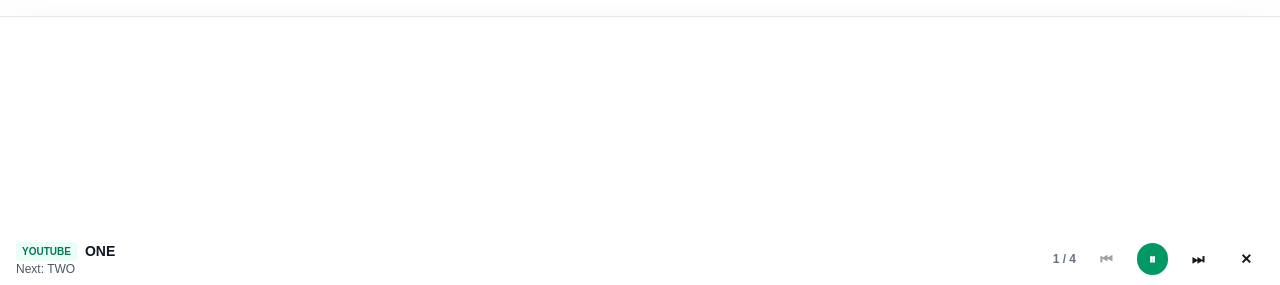
Test: advancing (ER3) › the next control and the previous control move through the queue
Click the button named "Next".
click(1198, 259)  # box [1180, 243, 1216, 275]
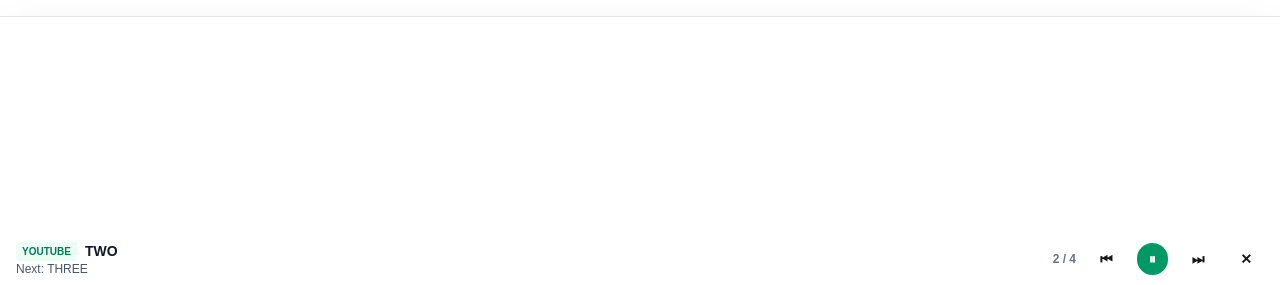
Now the text "2 / 4" is shown, box [1053, 251, 1076, 267]
Click the button named "Previous".
click(1106, 259)  # box [1088, 243, 1125, 275]
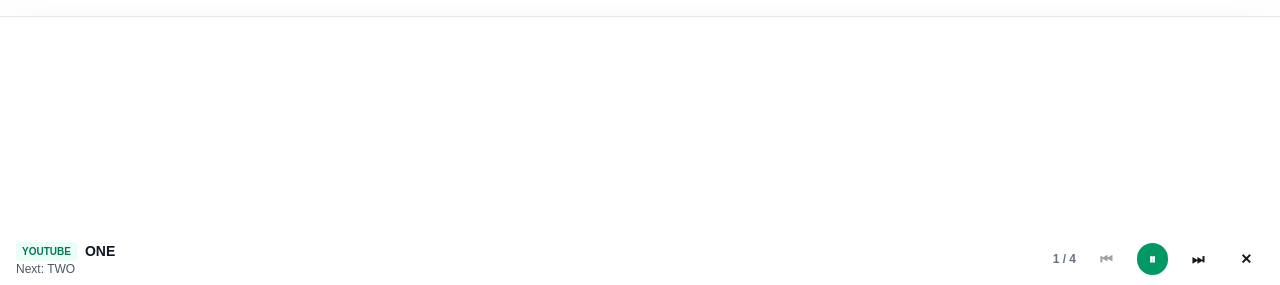
Now the text "1 / 4" is shown, box [1053, 251, 1076, 267]
